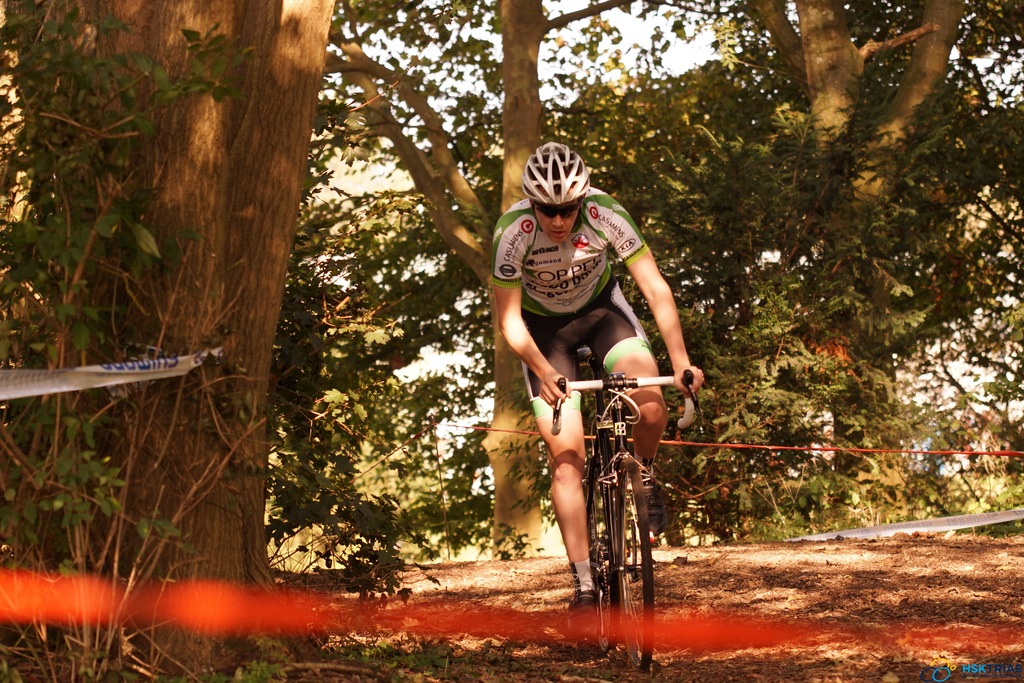Bike_toward: (529, 371, 704, 669)
